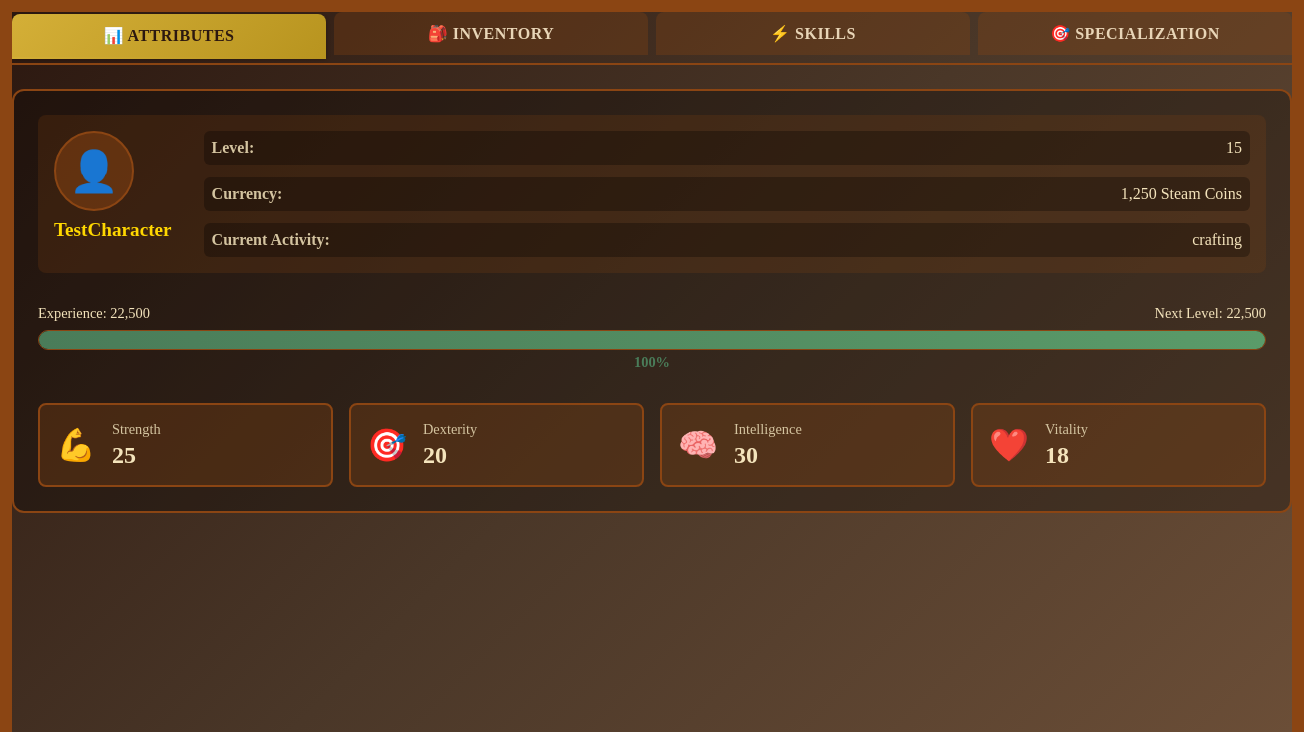
Test case: CharacterPanel › Inventory Tab › filters inventory items correctly
Click the button "🎒 Inventory": (491, 34) [334,12,648,55]
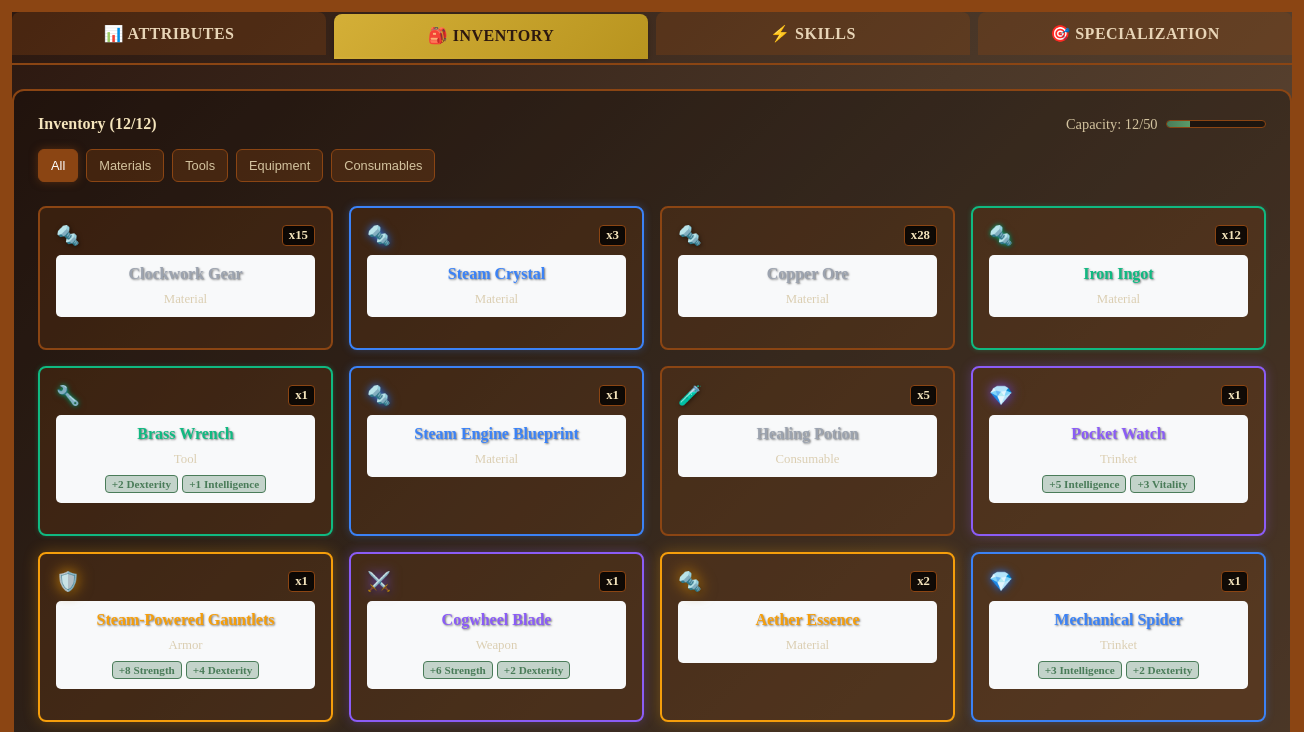
Expected: the text "Clockwork Gear" is shown, [128,265,243,283]
Expected: the text "Brass Wrench" is shown, [137,425,234,443]
Expected: the text "Healing Potion" is shown, [757,425,858,443]
Note: Filter by materials
Click the button "Materials": (125, 166) [86,149,164,182]
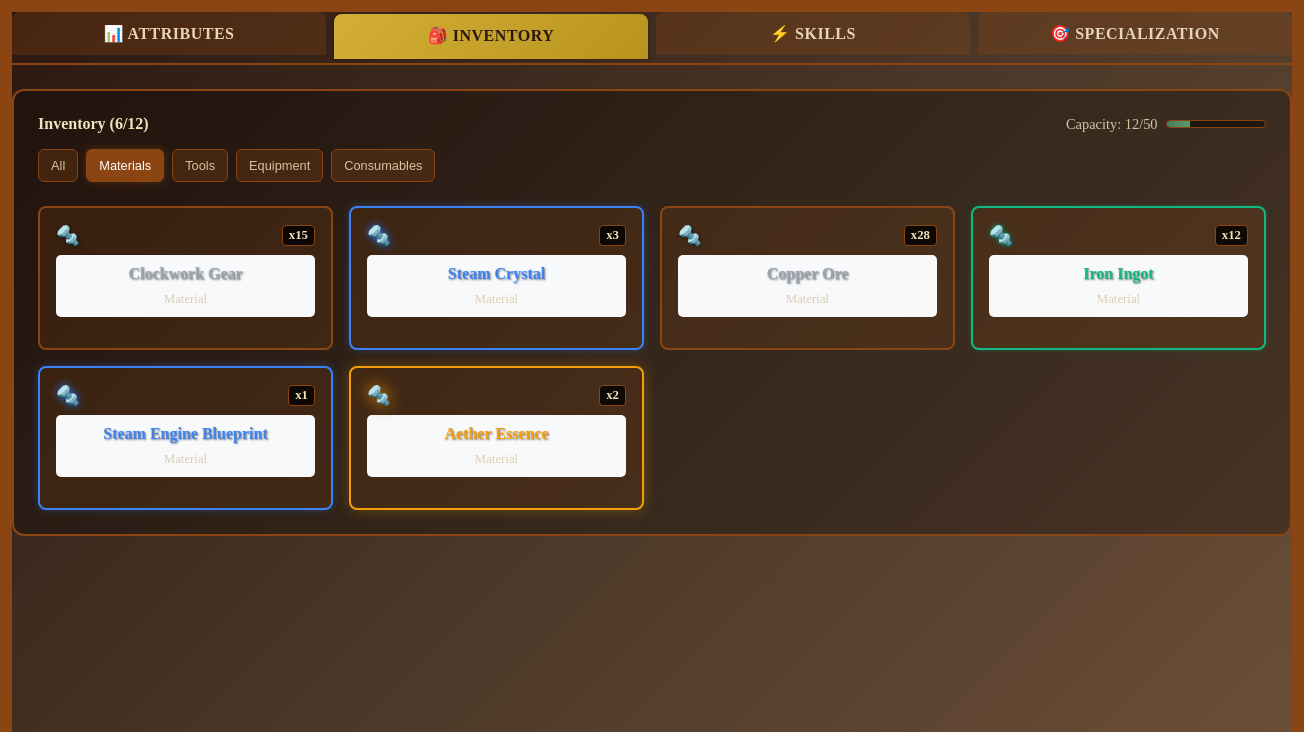
Expected: the text "Clockwork Gear" is shown, [128,265,243,283]
Expected: the text "Brass Wrench" is gone
Note: Filter by tools
Click the button "Tools": (200, 166) [172,149,228,182]
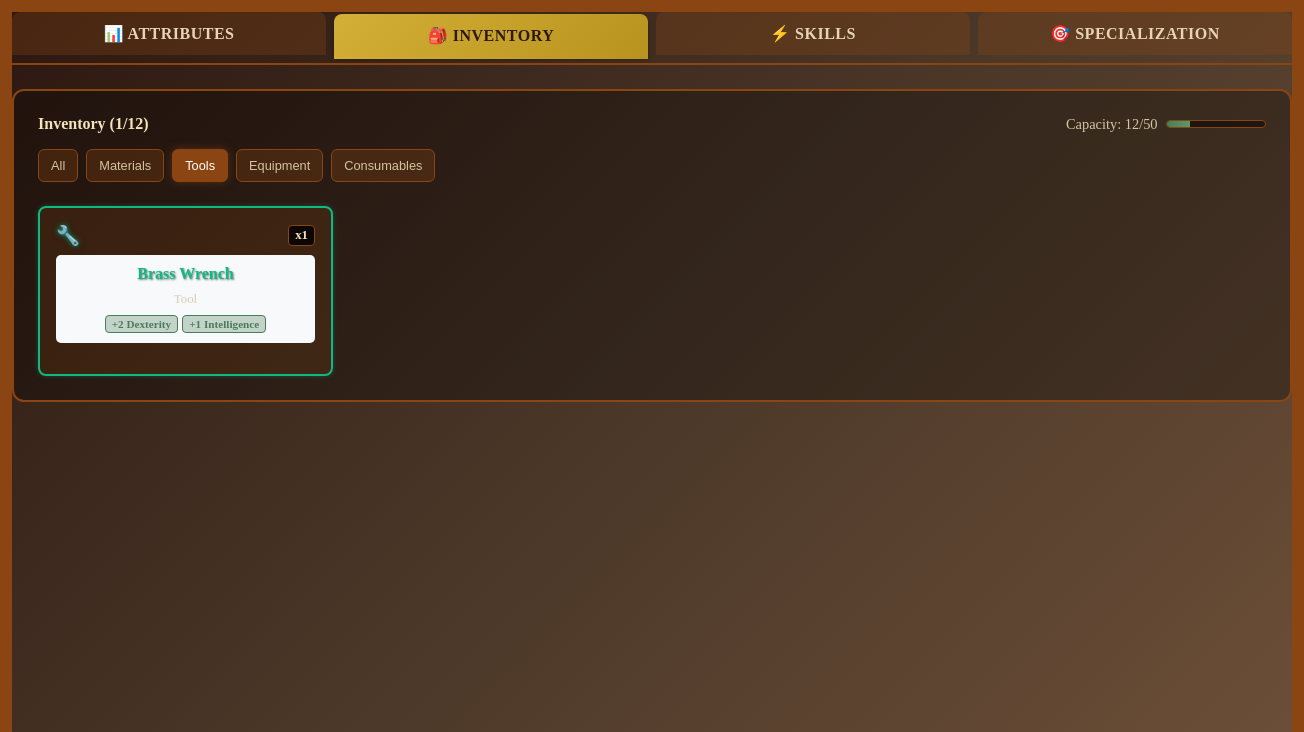
Expected: the text "Brass Wrench" is shown, [137,265,234,283]
Expected: the text "Clockwork Gear" is gone
